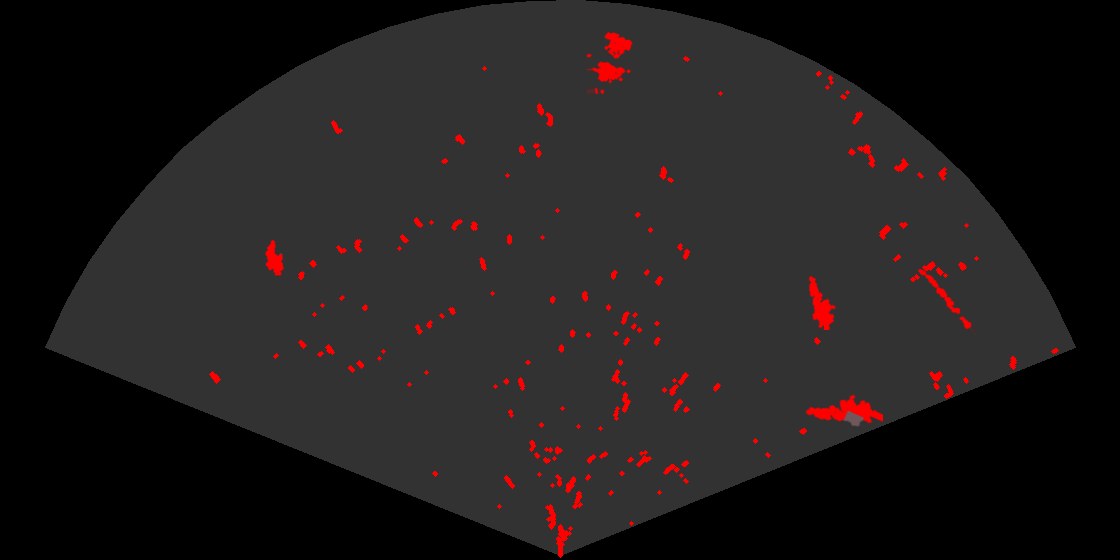AUV: (264, 238, 286, 278)
cage: (587, 30, 634, 94)
chain: (916, 267, 978, 335)
frogman: (804, 393, 883, 428), (807, 274, 838, 330)
